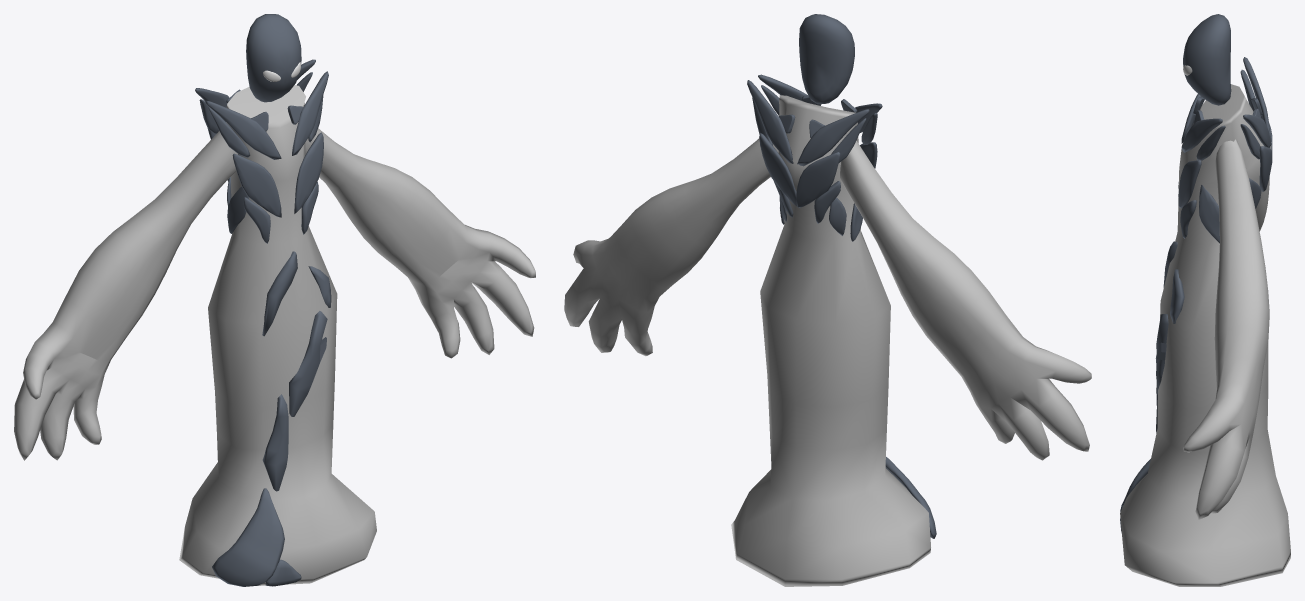
File: bigboss_maya_v001.fbx
3 renders of one model, left to right at view 1: azimuth 30°, elevation 25°; view 2: azimuth 150°, elevation 25°; view 3: azimuth 270°, elevation 25°, orthographic.
Parts seen in each view (by area): view 1: bigboss_mdl; view 2: bigboss_mdl; view 3: bigboss_mdl.
Boxes of the visible parts, x1,y1,x2,y2 form: bigboss_mdl: (14, 14, 535, 586); bigboss_mdl: (564, 14, 1091, 586); bigboss_mdl: (1120, 14, 1290, 586).
Size of the model in its own units: 467 by 469 by 134.
